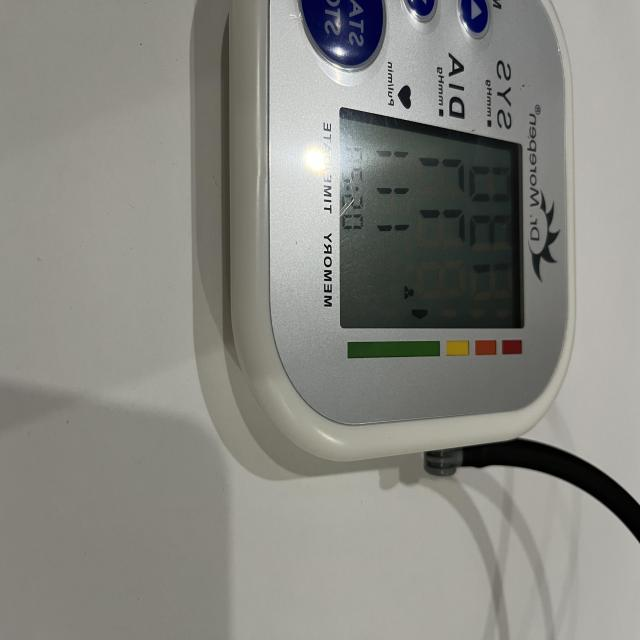bp: (191, 0, 579, 481)
